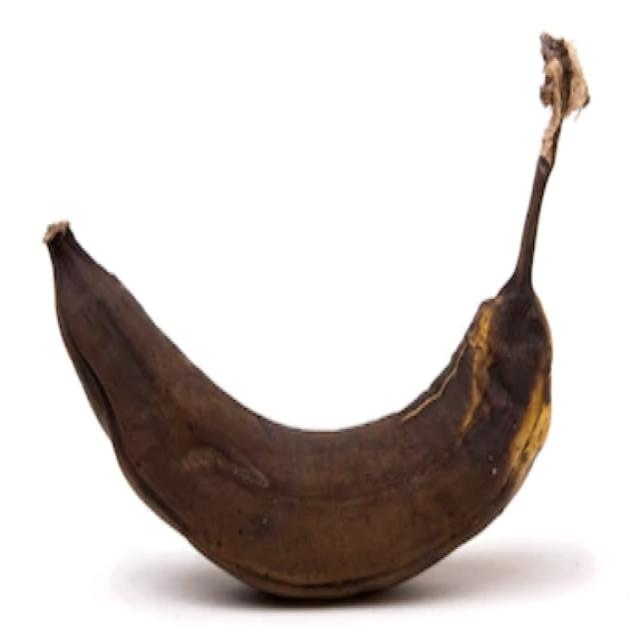rotten-banana: (41, 31, 591, 602)
